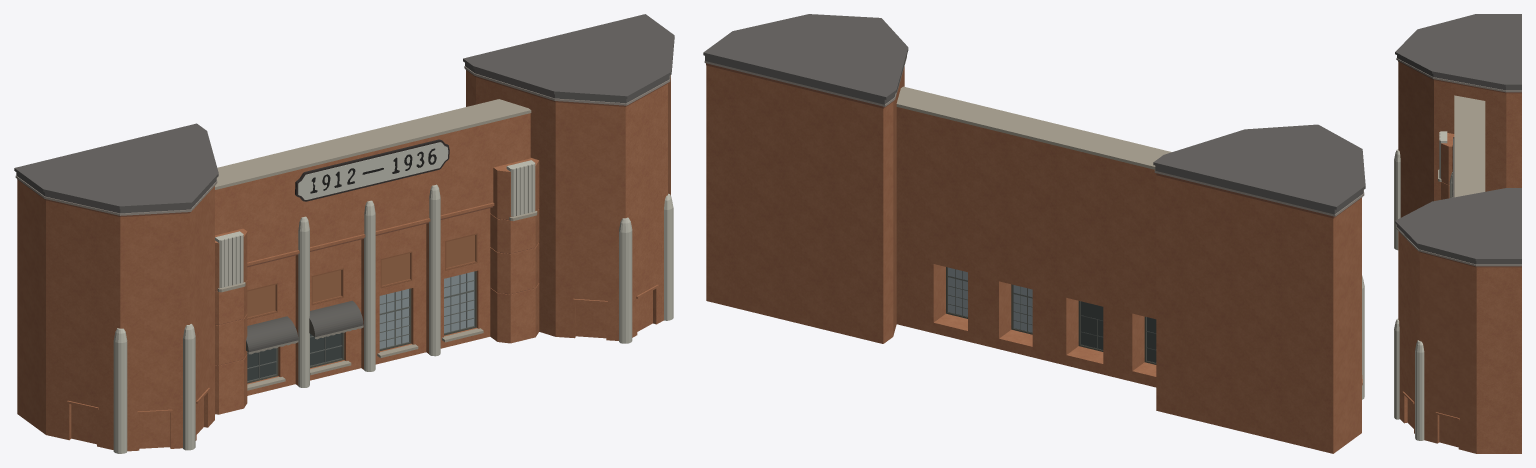
Rendered from hongkou-tanggu-road-apartment-dated-crown-raw.glb.
The picture shows the model from 3 angles, left to right: view 1: azimuth 30°, elevation 25°; view 2: azimuth 150°, elevation 25°; view 3: azimuth 270°, elevation 25°; orthographic projection. The views are drawn at different scales.
Parts seen in each view (by area): view 1: 公安大楼塘沽路年份匾与双塔楼冠; view 2: 公安大楼塘沽路年份匾与双塔楼冠; view 3: 公安大楼塘沽路年份匾与双塔楼冠.
Part boxes in pixels (bbox=[...]): 公安大楼塘沽路年份匾与双塔楼冠: bbox=[14, 14, 674, 453]; 公安大楼塘沽路年份匾与双塔楼冠: bbox=[703, 14, 1365, 453]; 公安大楼塘沽路年份匾与双塔楼冠: bbox=[1394, 14, 1521, 453].
Size of the model in its own units: 16.32 by 6.1 by 3.6.
Materials: 18 (1 with a texture image).
